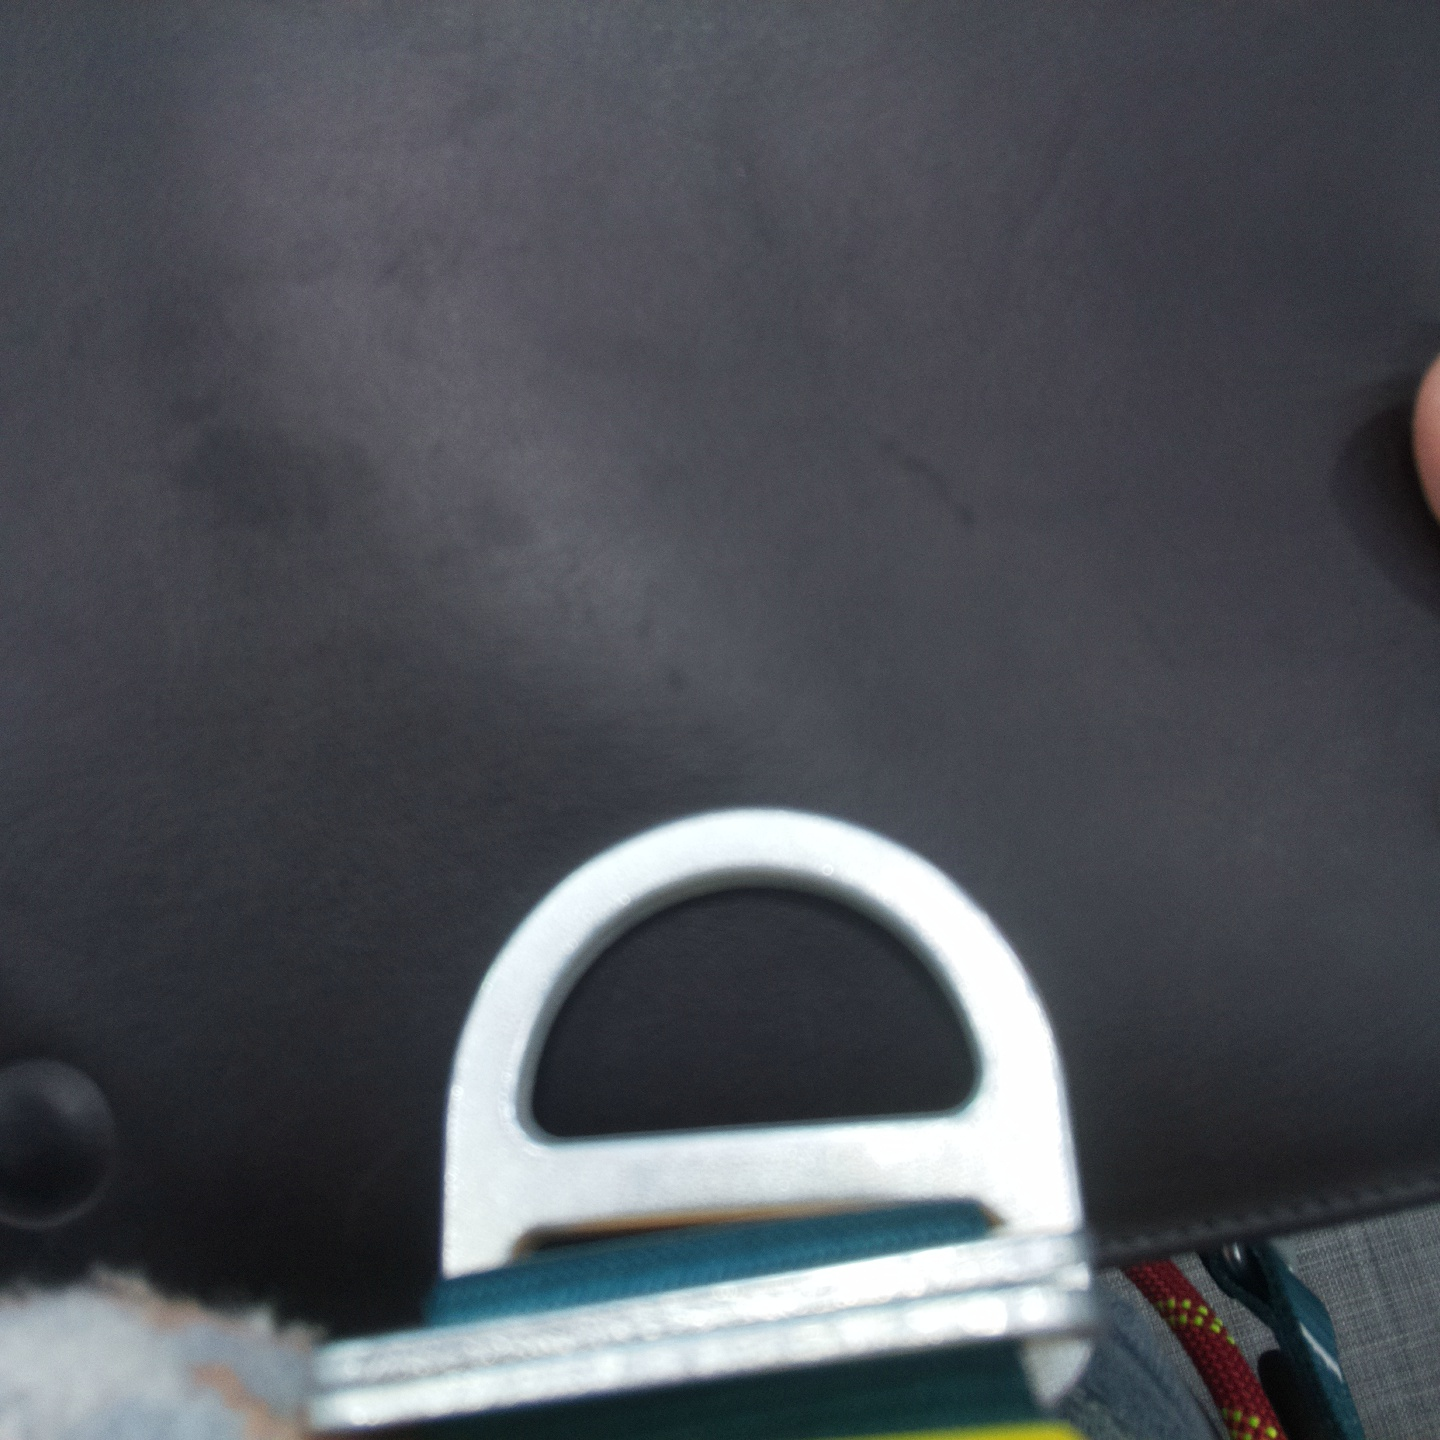UNSUCCESS: (388, 804, 1175, 1280)
